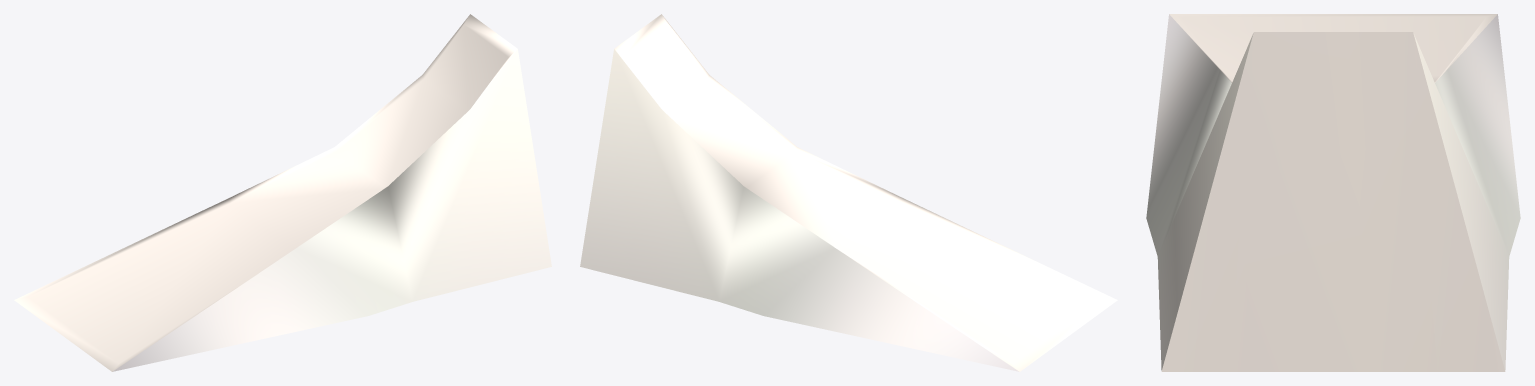
Rendered from SnowmobileTrackJumpNarrow.glb.
The picture shows the model from 3 angles, left to right: view 1: azimuth 30°, elevation 25°; view 2: azimuth 150°, elevation 25°; view 3: azimuth 270°, elevation 25°; orthographic projection. The views are drawn at different scales.
Parts seen in each view (by area): view 1: SnowmobileTrackJumpNarrow; view 2: SnowmobileTrackJumpNarrow; view 3: SnowmobileTrackJumpNarrow.
Part boxes in pixels (bbox=[...]): SnowmobileTrackJumpNarrow: bbox=[14, 14, 551, 371]; SnowmobileTrackJumpNarrow: bbox=[580, 14, 1117, 371]; SnowmobileTrackJumpNarrow: bbox=[1146, 14, 1520, 371].
Bounding box in the file's own units: 7.5 × 3.27 × 3.32.
Materials: 1 (1 with a texture image).
